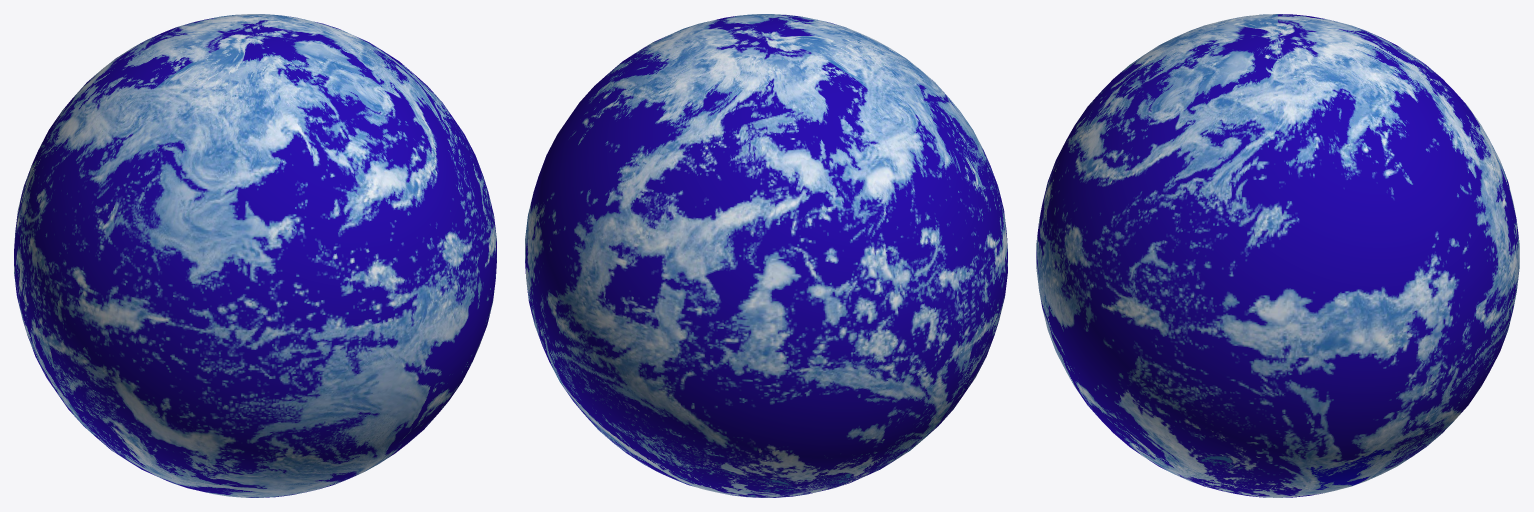
Rendered from Planet.gltf.
3 views of the same model, side by side, from view 1: azimuth 30°, elevation 25°; view 2: azimuth 150°, elevation 25°; view 3: azimuth 270°, elevation 25° (orthographic).
Parts seen in each view (by area): view 1: Sphere; view 2: Sphere; view 3: Sphere.
Part boxes in pixels (box(x1,y1,x2,y2)): Sphere: box(14, 14, 496, 497); Sphere: box(525, 14, 1007, 497); Sphere: box(1036, 14, 1519, 497).
Bounding box in the file's own units: 6.59 × 6.6 × 6.59.
Materials: 1 (1 with a texture image).
